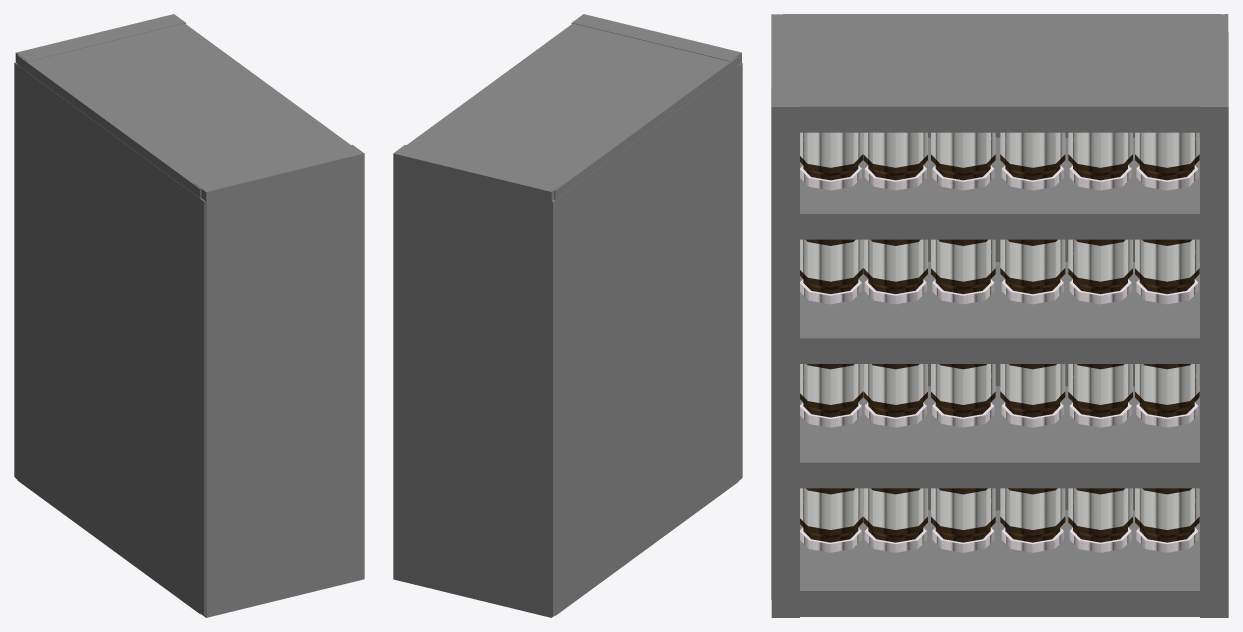
Rendered from nutella_shelf.gltf.
3 renders of one model, left to right at view 1: azimuth 30°, elevation 25°; view 2: azimuth 150°, elevation 25°; view 3: azimuth 270°, elevation 25°, orthographic. The views are drawn at different scales.
Visible parts, largest first — view 1: Cube.008; view 2: Cube.008; view 3: Cube.008.
Part boxes in pixels (left/top/right/bottom): Cube.008: left=14, top=14, right=364, bottom=617; Cube.008: left=393, top=14, right=742, bottom=617; Cube.008: left=771, top=14, right=1228, bottom=617.
Size of the model in its own units: 4.03 by 10.28 by 8.34.
